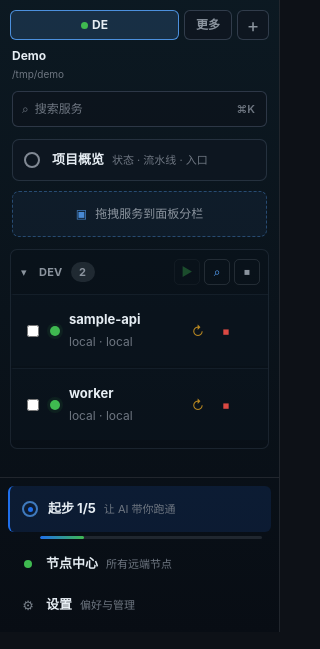
Scenario: SidebarView › 搜索服务时只保留匹配的 service 行
The width and height of the screenshot is (320, 649).
Type "worker" into the field with test id "sidebar-service-search" at (132, 109), box top-left (35, 100), bottom-right (228, 118)
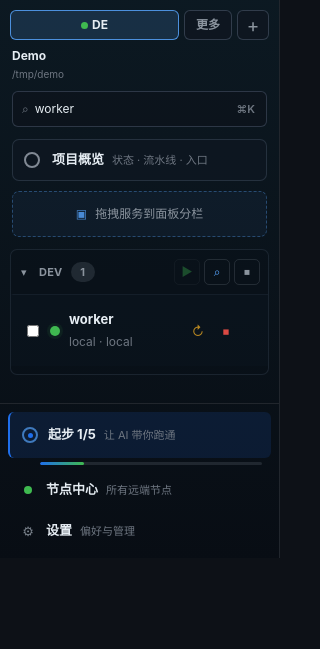
Expected: the text "worker" is shown, top-left (69, 310), bottom-right (114, 329)
Now the text "sample-api" is gone
